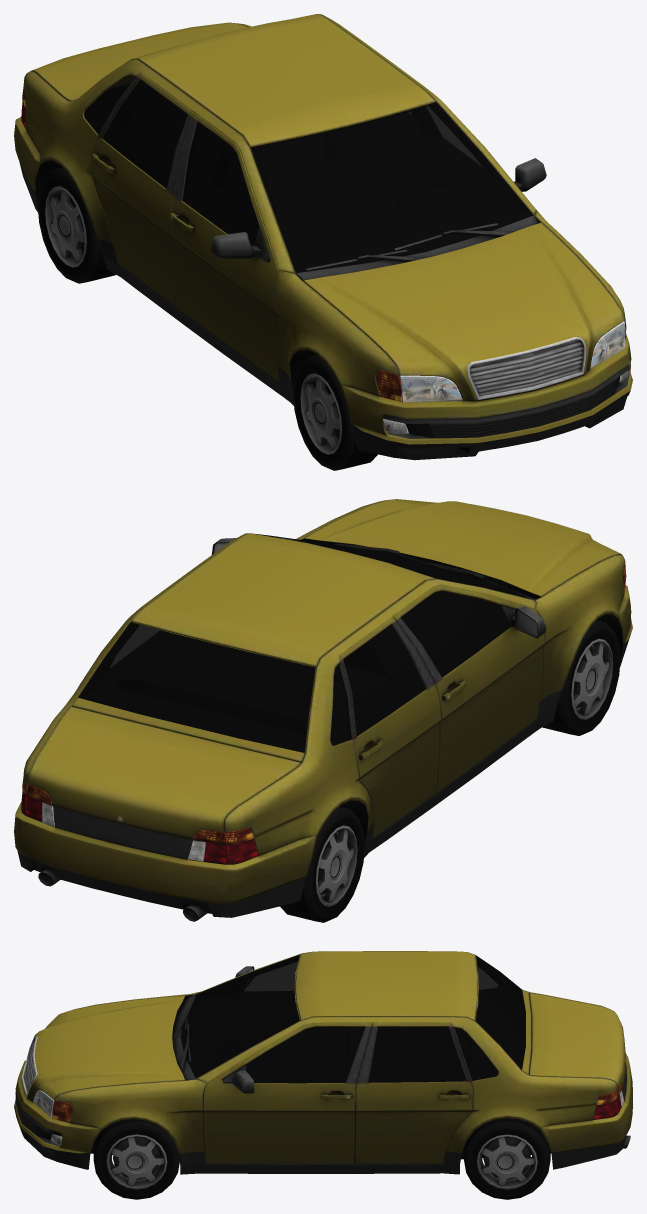
Rendered from sedan.glb.
The picture shows the model from 3 angles, top to bottom: view 1: azimuth 30°, elevation 25°; view 2: azimuth 150°, elevation 25°; view 3: azimuth 270°, elevation 25°; orthographic projection. The views are drawn at different scales.
Visible parts, largest first — view 1: body, wheel_fr, wheel_rr; view 2: body, wheel_rr, wheel_fr; view 3: body, wheel_rl, wheel_fl.
Boxes of the visible parts, x1,y1,x2,y2 form: body: [14, 14, 632, 460]; wheel_fr: [293, 354, 377, 470]; wheel_rr: [37, 167, 115, 283]; body: [14, 499, 632, 921]; wheel_rr: [280, 806, 364, 922]; wheel_fr: [542, 620, 620, 735]; body: [14, 951, 632, 1174]; wheel_rl: [464, 1118, 550, 1199]; wheel_fl: [93, 1119, 179, 1199].
Size of the model in its own units: 2.09 by 1.45 by 4.7.
4 materials, 3 textured.
